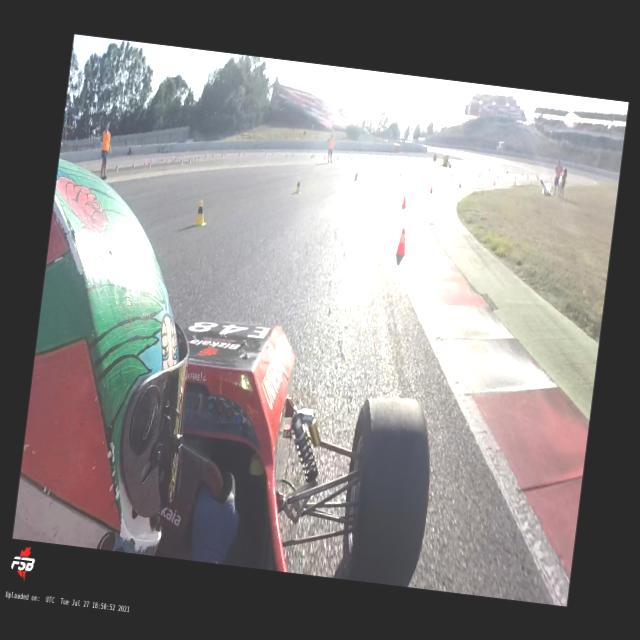orange_cone: (394, 227, 408, 256), (400, 193, 408, 210), (429, 184, 434, 194), (492, 178, 495, 186), (458, 180, 461, 188), (513, 179, 516, 185)
yellow_cone: (192, 198, 210, 227), (292, 180, 302, 195), (352, 171, 358, 180), (113, 164, 119, 172), (399, 170, 402, 176)
